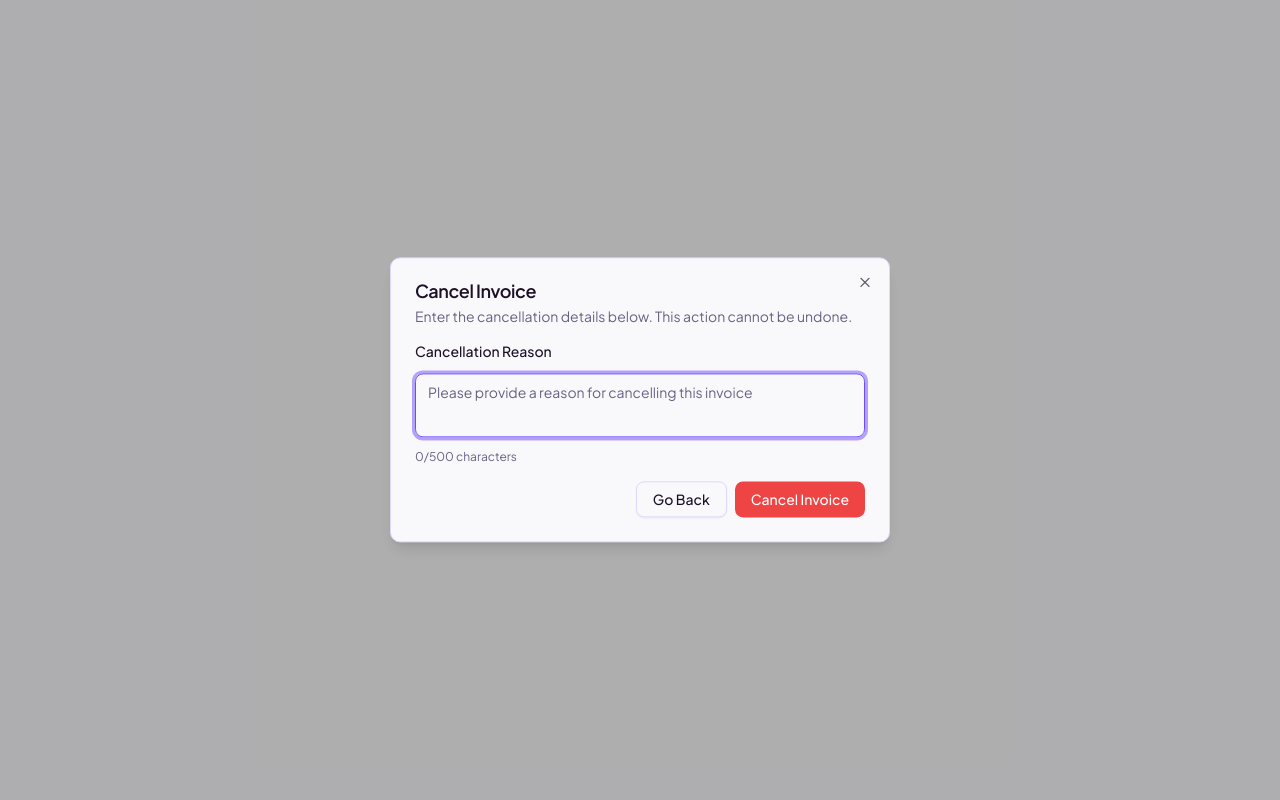
CancelInvoiceDialog › interactions › shows character count as reason is typed
Step 1. Type "Hello" into the text box labelled "Cancellation Reason" → (640, 406), box [415,374,865,438]
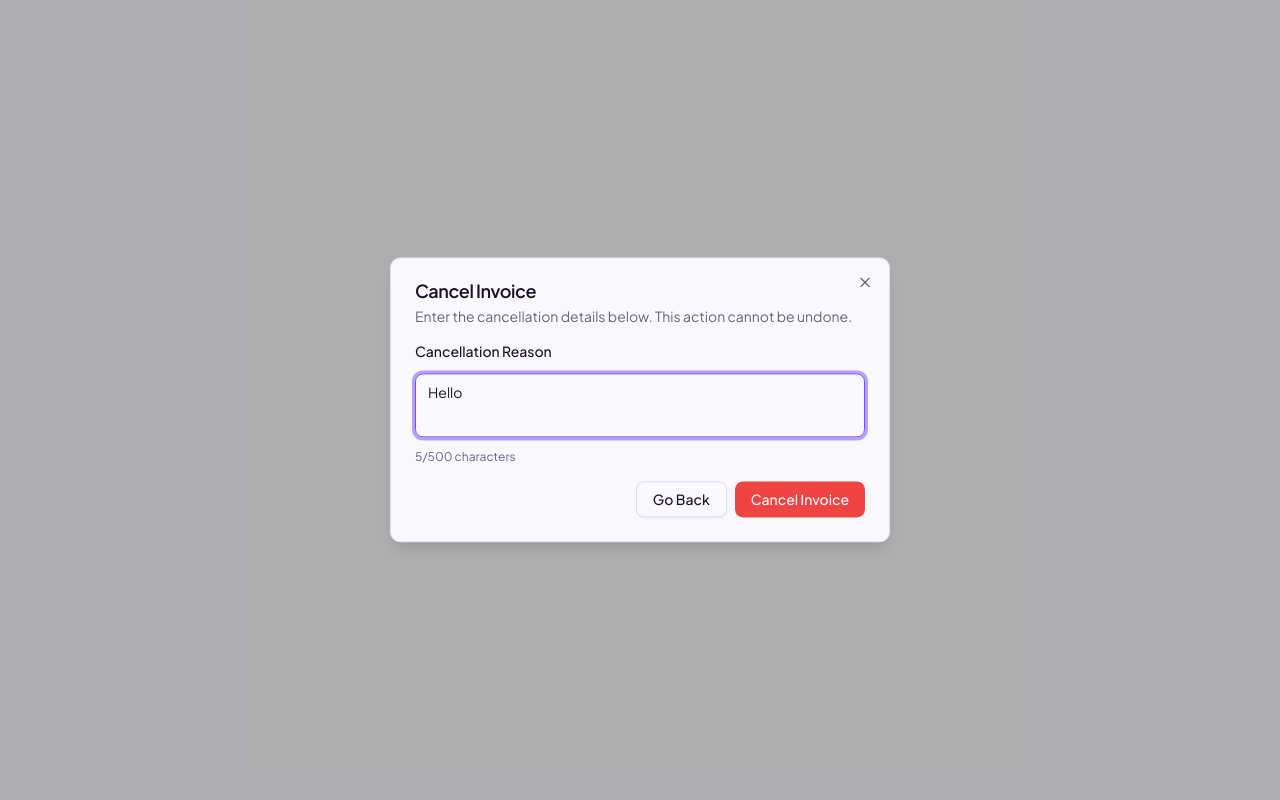
Now the text "5/500 characters" is shown, box [415,450,516,465]
